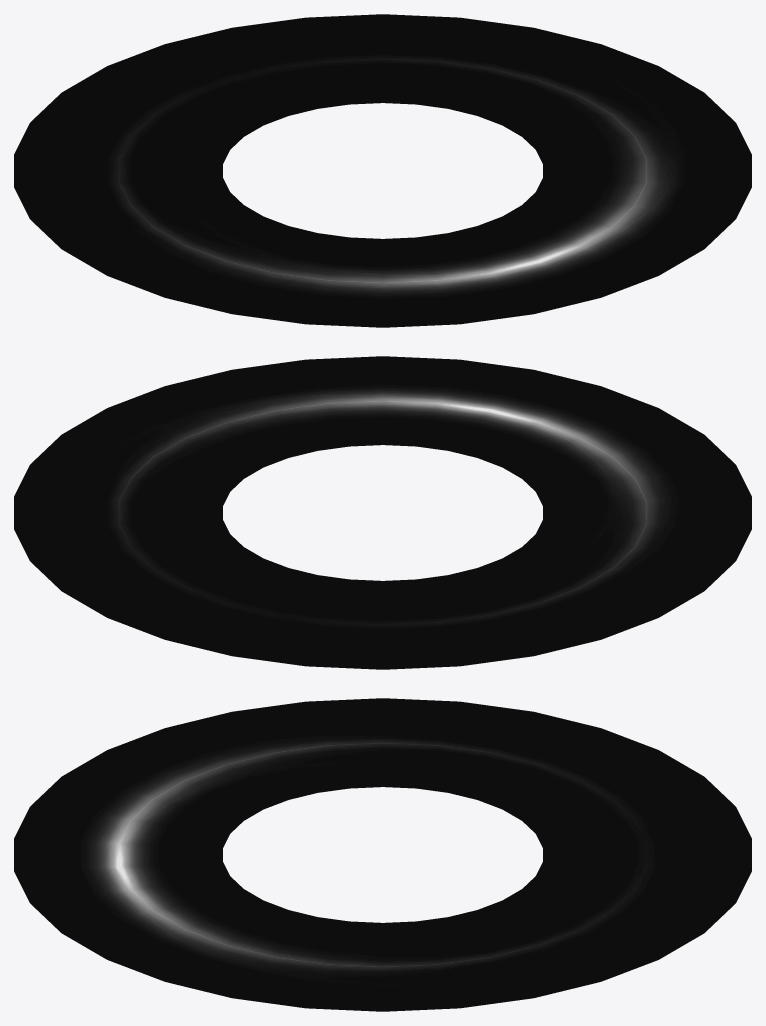
Rendered from 0497_yuanpan02.glb.
3 views of the same model, one above another, from view 1: azimuth 30°, elevation 25°; view 2: azimuth 150°, elevation 25°; view 3: azimuth 270°, elevation 25° (orthographic).
Size of the model in its own units: 2.2 by 1.34e-16 by 2.19.
Materials: 1 (1 with a texture image).
